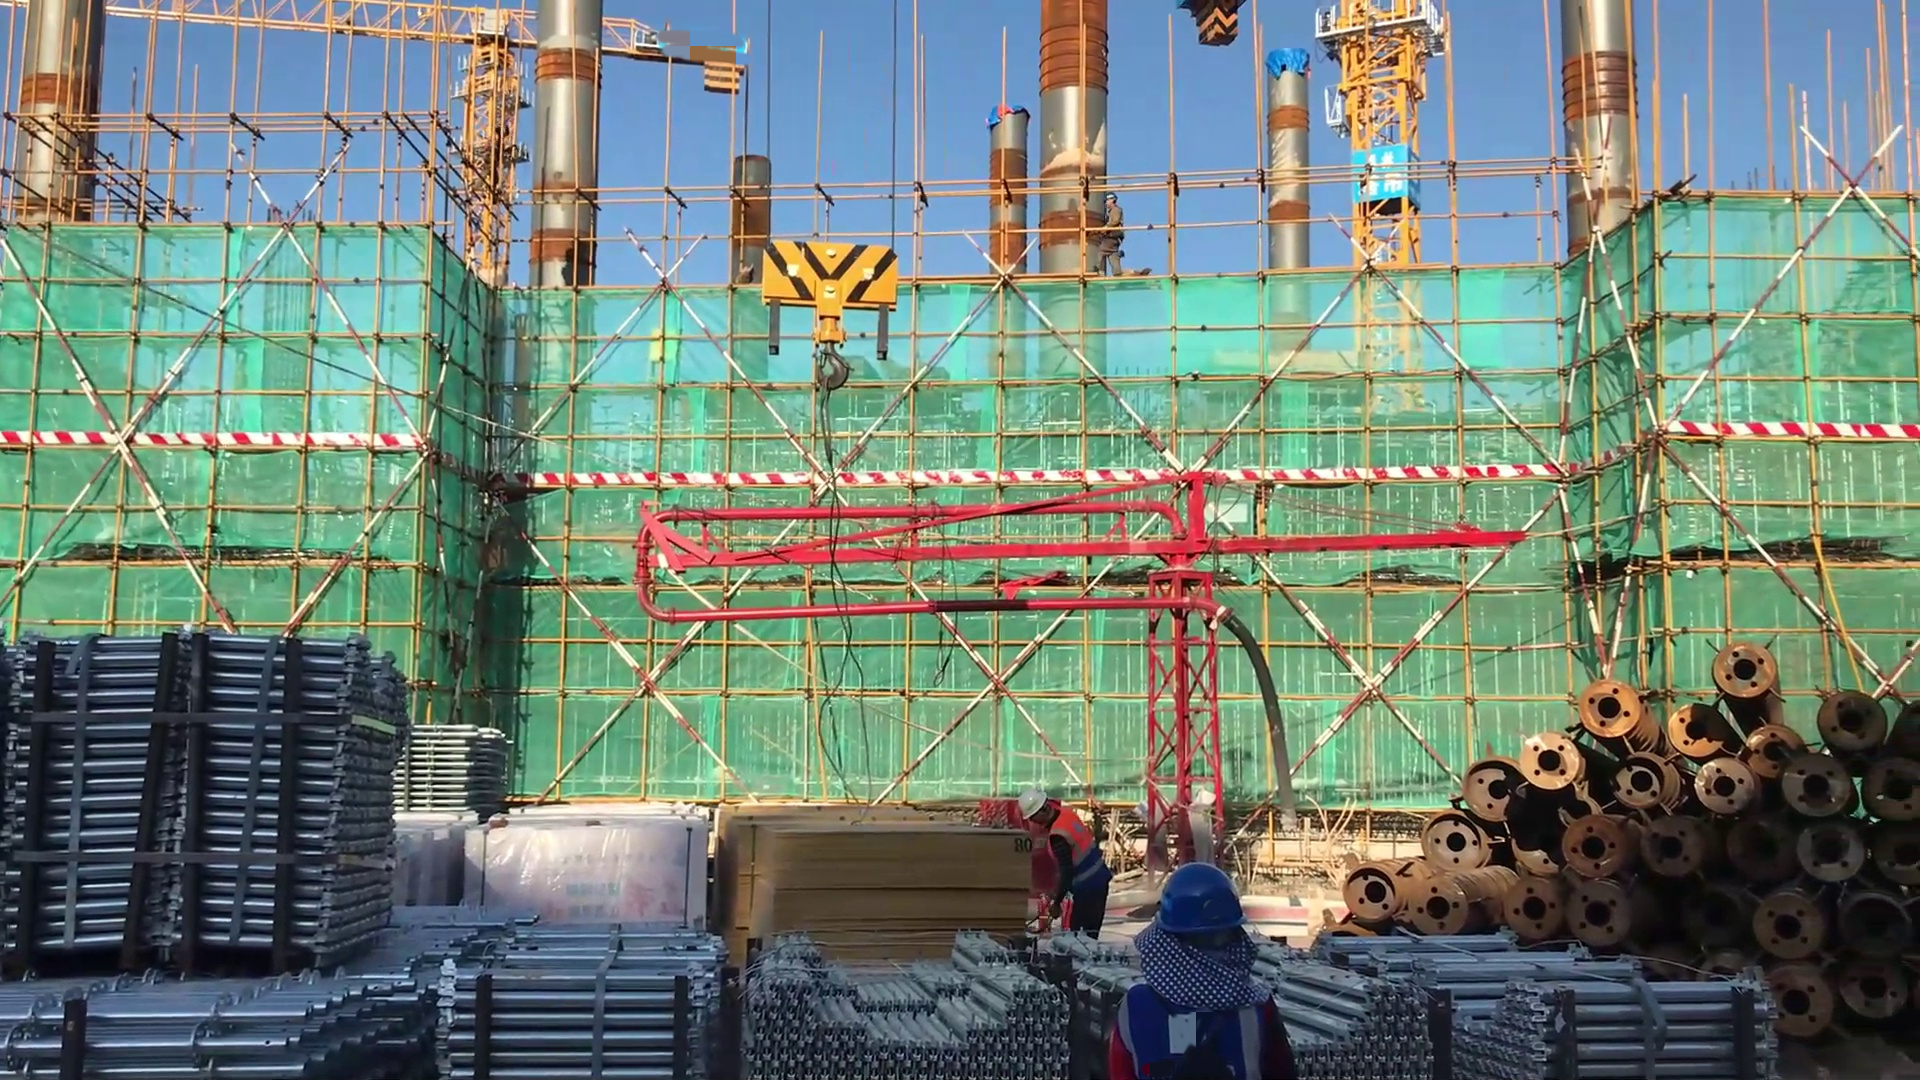board: (713, 799, 1037, 993)
helmet: (1148, 868, 1252, 930), (1020, 777, 1052, 826), (1102, 190, 1122, 202)
hook: (727, 206, 913, 434)
person: (1106, 864, 1297, 1074), (1017, 791, 1119, 952), (1091, 190, 1138, 279)
scaffold: (1, 626, 426, 966), (434, 934, 1075, 1071), (1, 907, 508, 1079), (1275, 916, 1759, 1076), (387, 706, 540, 821)
slogan: (1347, 146, 1412, 213)
vest: (1114, 981, 1281, 1077), (1051, 802, 1114, 903)
